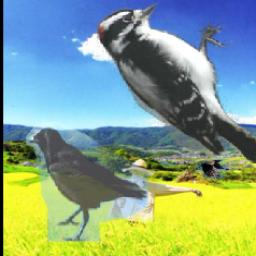Crow: (26, 122, 148, 242), (195, 159, 229, 179)
Woodpecker: (97, 4, 256, 164)
